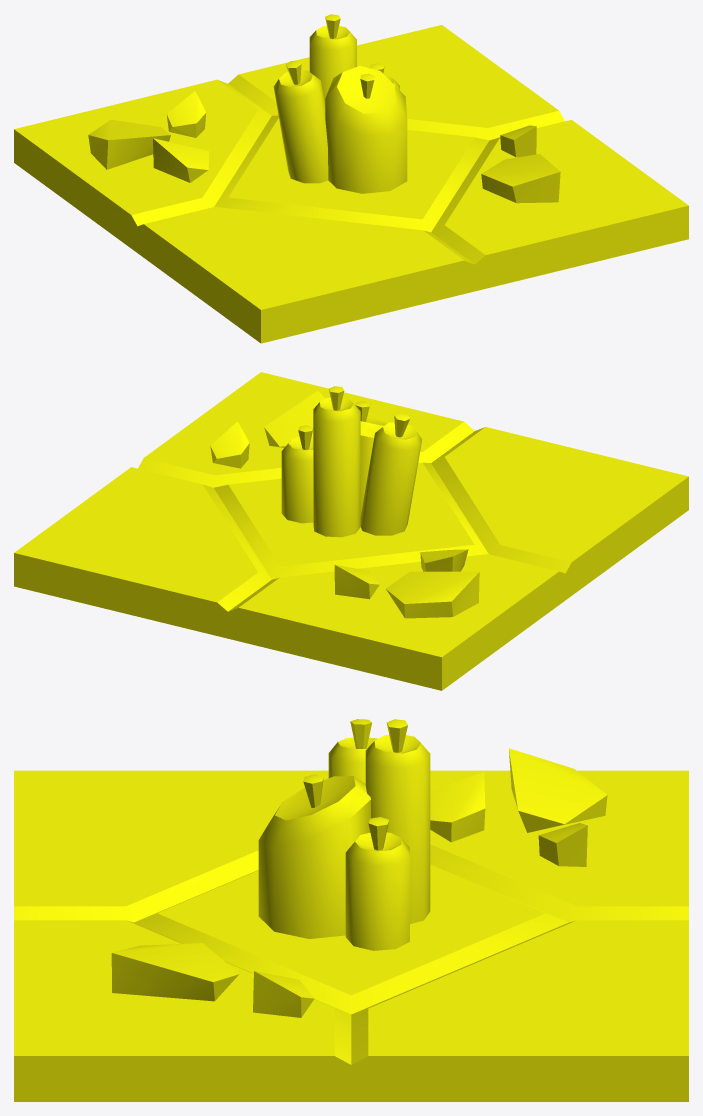
Rendered from kaykit-floor-tile-small-decorated.glb.
3 views of the same model, one above another, from view 1: azimuth 30°, elevation 25°; view 2: azimuth 150°, elevation 25°; view 3: azimuth 270°, elevation 25° (orthographic). The views are drawn at different scales.
Visible parts, largest first — view 1: floor_tile_small_decorated; view 2: floor_tile_small_decorated; view 3: floor_tile_small_decorated.
Part boxes in pixels (x1,y1,x2,y2): floor_tile_small_decorated: [14, 14, 688, 343]; floor_tile_small_decorated: [14, 372, 688, 690]; floor_tile_small_decorated: [14, 719, 688, 1101].
Bounding box in the file's own units: 2 × 0.773 × 2.
